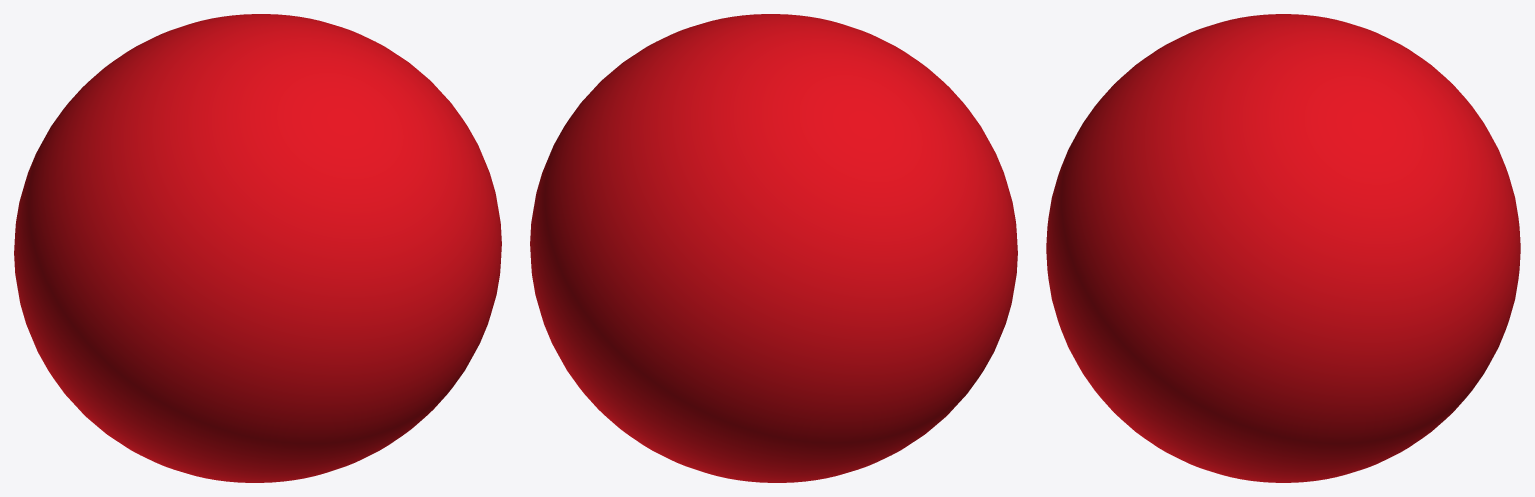
The model's file is clown-nose.glb.
3 views of the same model, side by side, from view 1: azimuth 30°, elevation 25°; view 2: azimuth 150°, elevation 25°; view 3: azimuth 270°, elevation 25° (orthographic).
Parts seen in each view (by area): view 1: ClownNose; view 2: ClownNose; view 3: ClownNose.
Boxes of the visible parts, x1,y1,x2,y2 form: ClownNose: (14, 14, 501, 482); ClownNose: (530, 14, 1017, 482); ClownNose: (1046, 14, 1520, 482).
Size of the model in its own units: 0.2 by 0.19 by 0.194.
